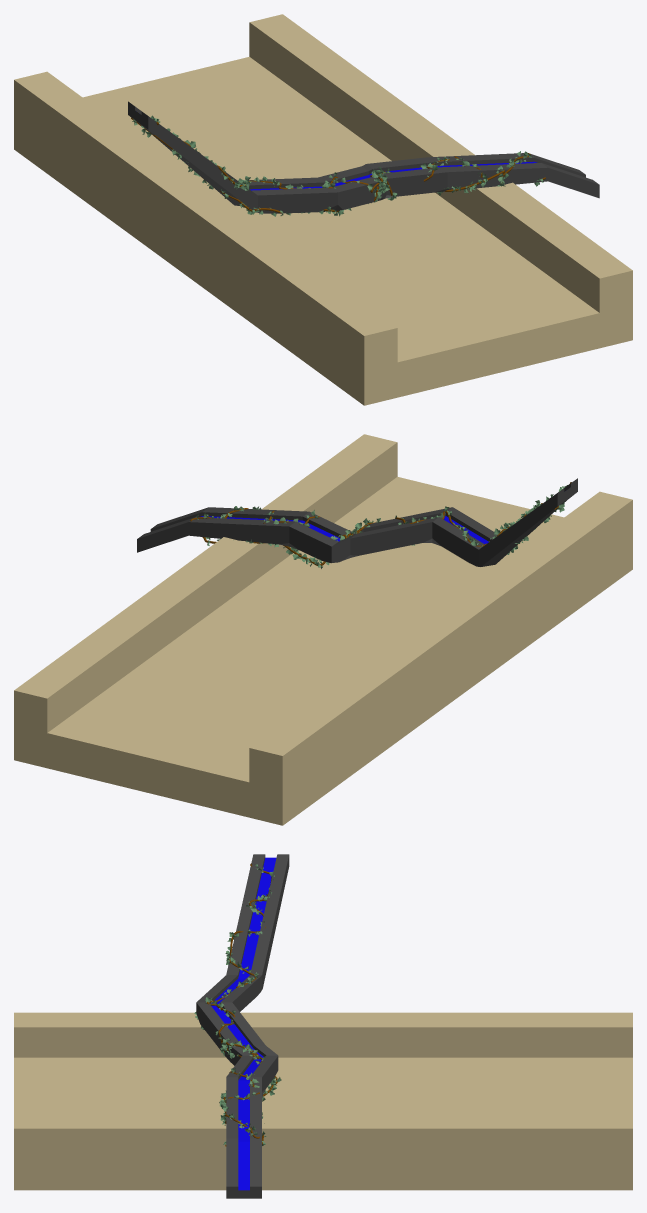
3 views of the same model, one above another, from view 1: azimuth 30°, elevation 25°; view 2: azimuth 150°, elevation 25°; view 3: azimuth 270°, elevation 25° (orthographic). The views are drawn at different scales.
Parts seen in each view (by area): view 1: pl4, Cube.256; view 2: pl4, Cube.256; view 3: pl4, Cube.256.
Part boxes in pixels (x1,y1,x2,y2): pl4: [14, 14, 632, 405]; Cube.256: [128, 101, 599, 216]; pl4: [14, 434, 632, 825]; Cube.256: [137, 478, 577, 568]; pl4: [14, 1012, 632, 1190]; Cube.256: [194, 854, 289, 1198].
Bounding box in the file's own units: 12.94 × 5.96 × 18.
